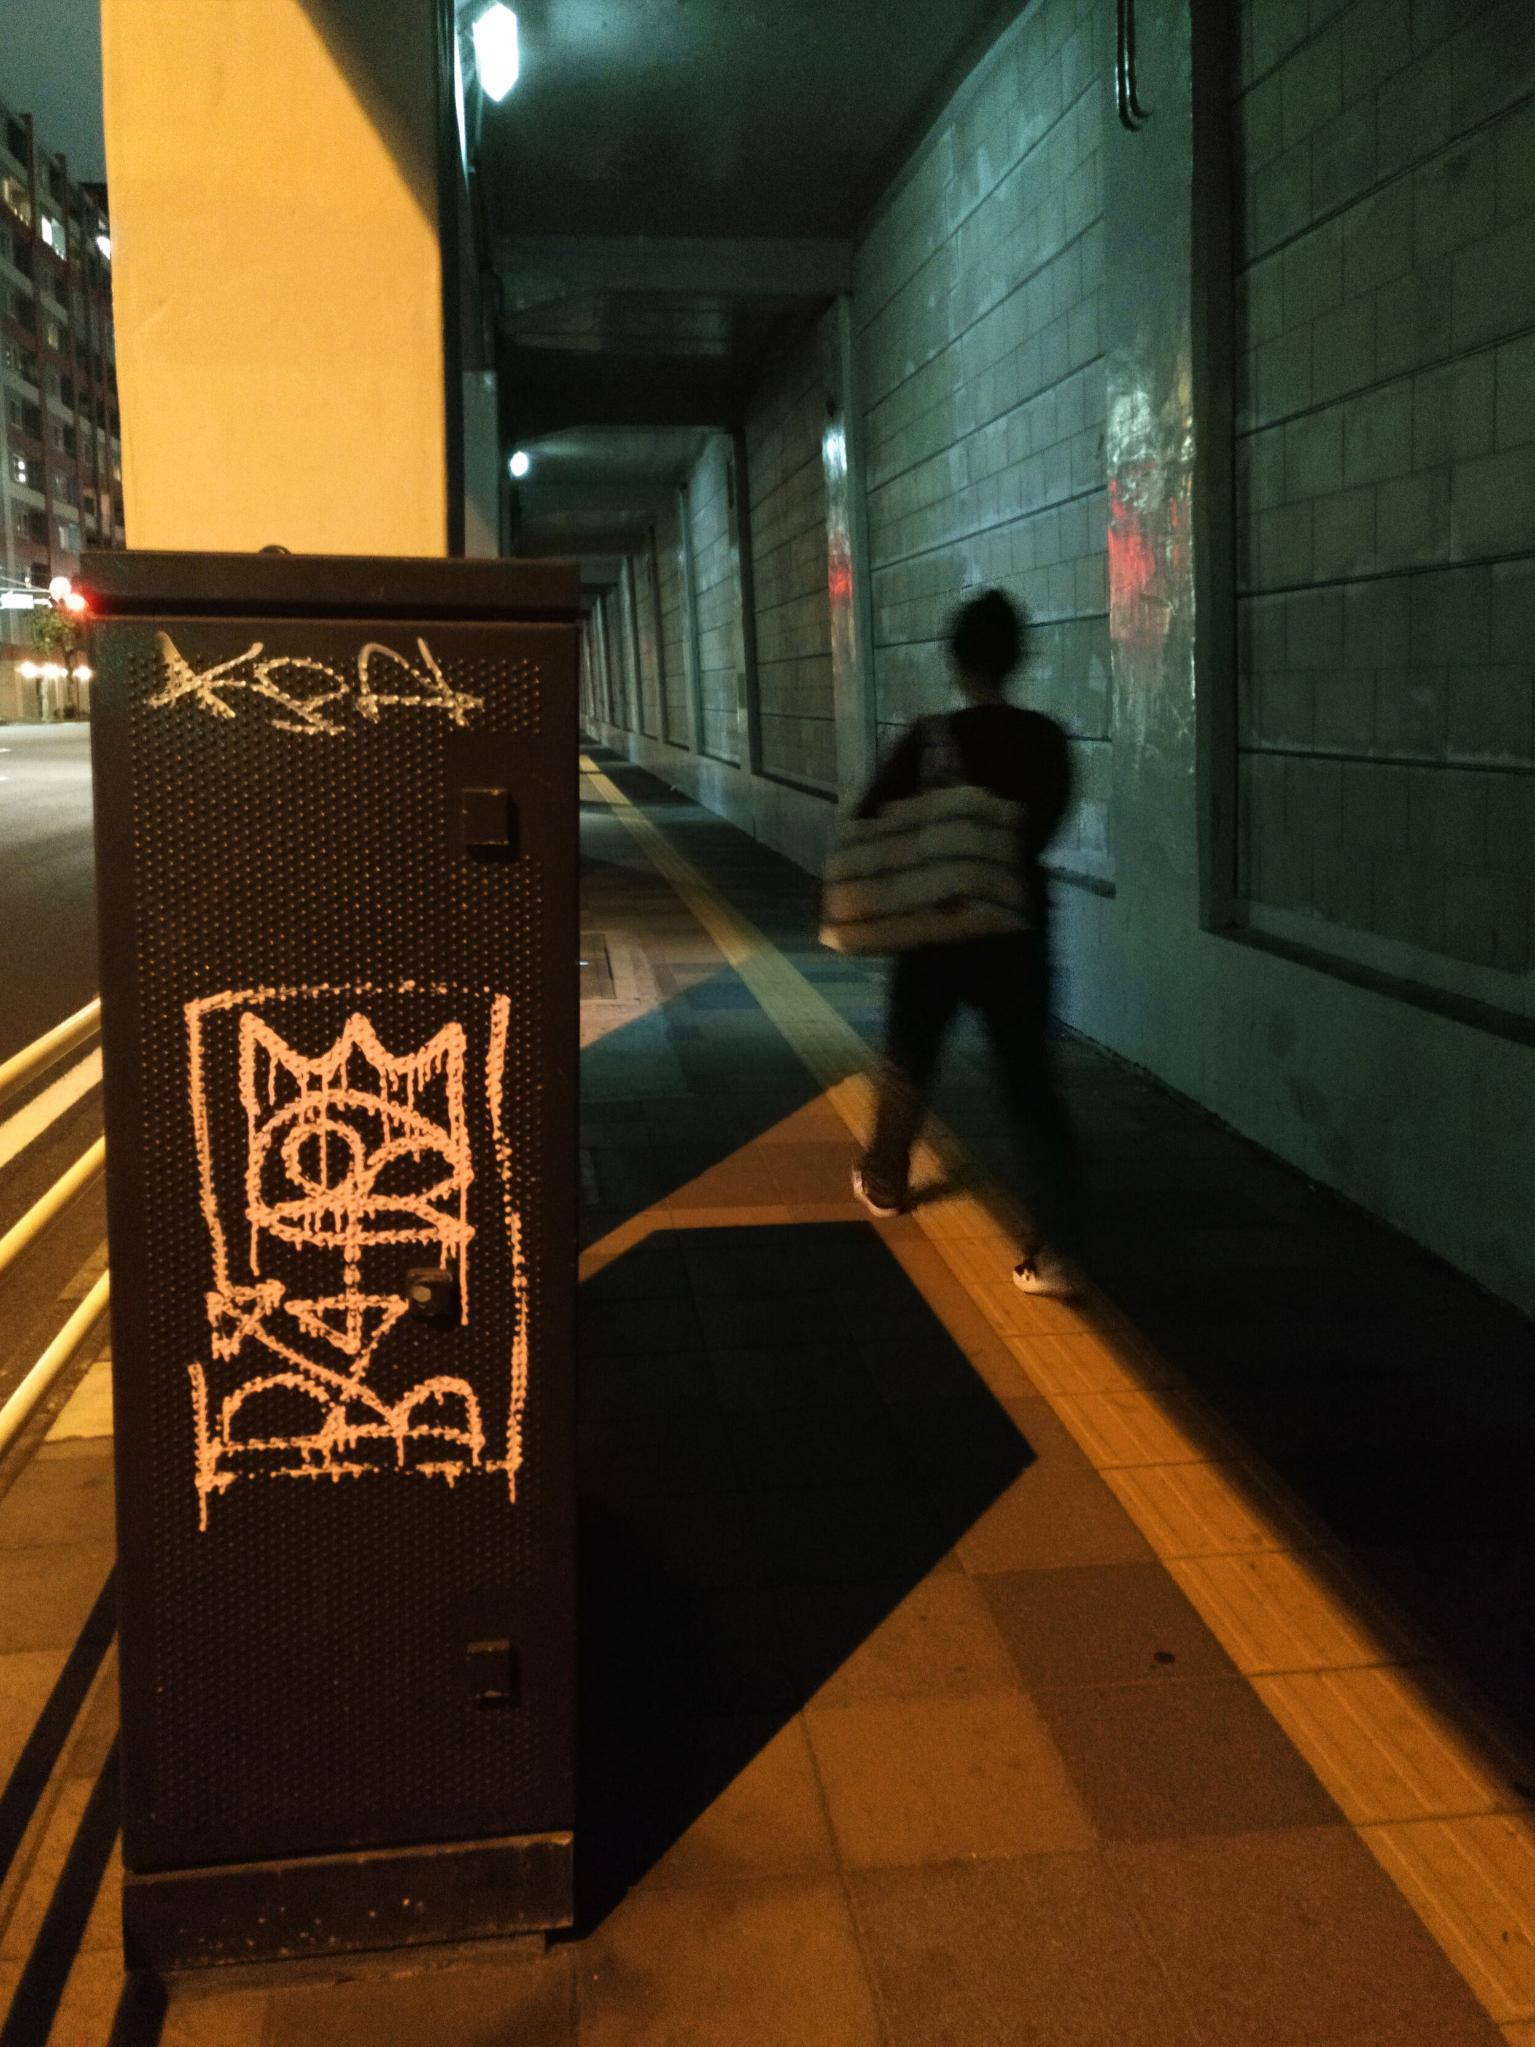graffiti: (185, 986, 526, 1531), (142, 632, 484, 737)
